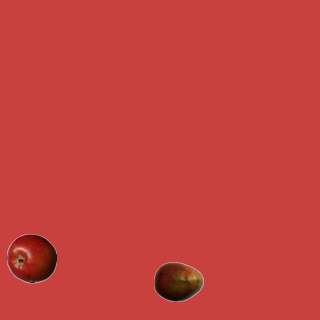Apple Braeburn: (6, 233, 56, 283)
Mango Red: (153, 256, 203, 306)
